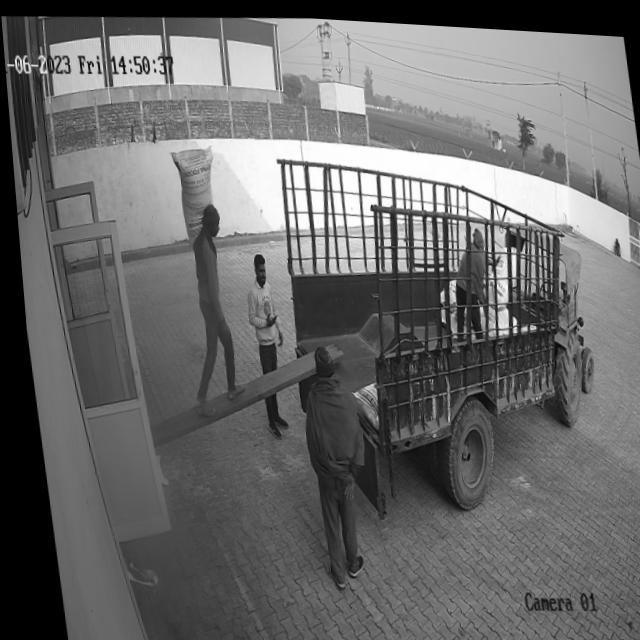sack: (167, 139, 222, 246)
